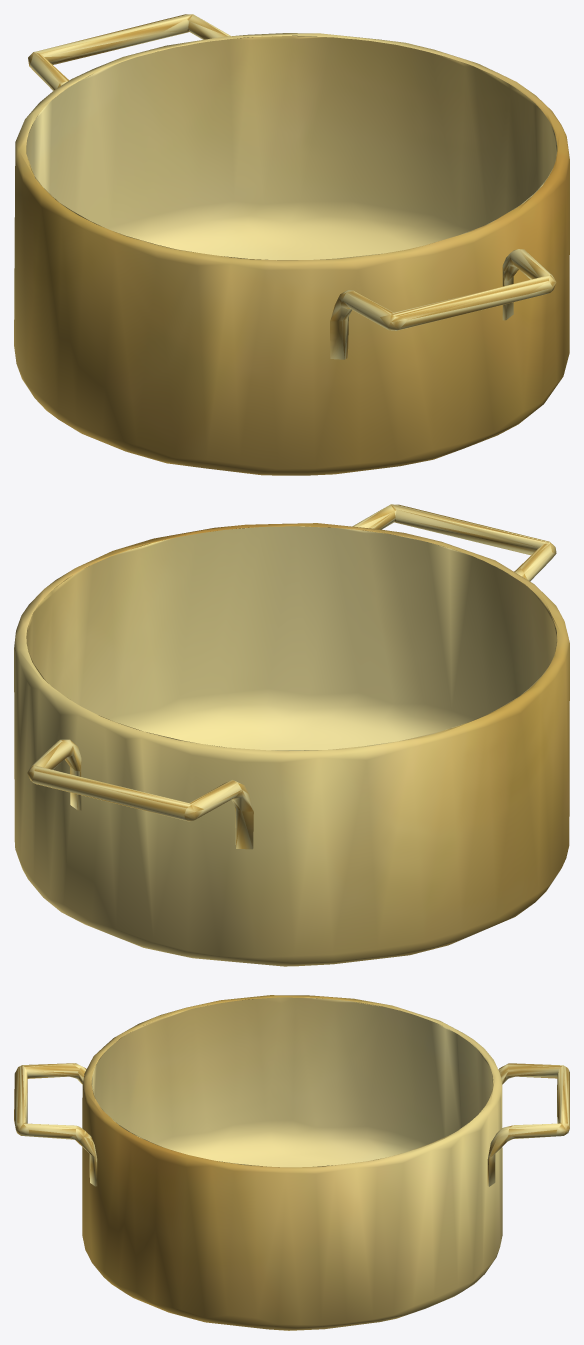
File: pot.obj
3 renders of one model, top to bottom at view 1: azimuth 30°, elevation 25°; view 2: azimuth 150°, elevation 25°; view 3: azimuth 270°, elevation 25°, orthographic. The views are drawn at different scales.
Parts seen in each view (by area): view 1: cacerola_Cylinder.000; view 2: cacerola_Cylinder.000; view 3: cacerola_Cylinder.000.
Part boxes in pixels (left/top/right/bottom): cacerola_Cylinder.000: left=14, top=14, right=569, bottom=475; cacerola_Cylinder.000: left=14, top=504, right=569, bottom=966; cacerola_Cylinder.000: left=14, top=995, right=569, bottom=1330.
Size of the model in its own units: 39.92 by 17.42 by 52.89.
1 material, 1 textured.
